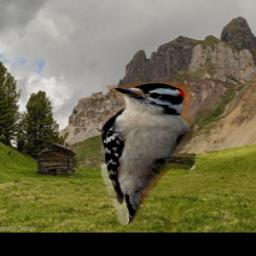Woodpecker: (101, 82, 196, 225)
